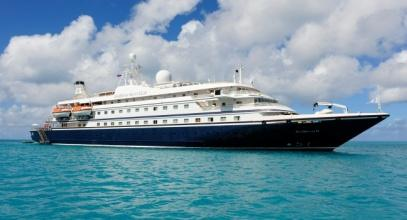yacht: (34, 60, 383, 143)
